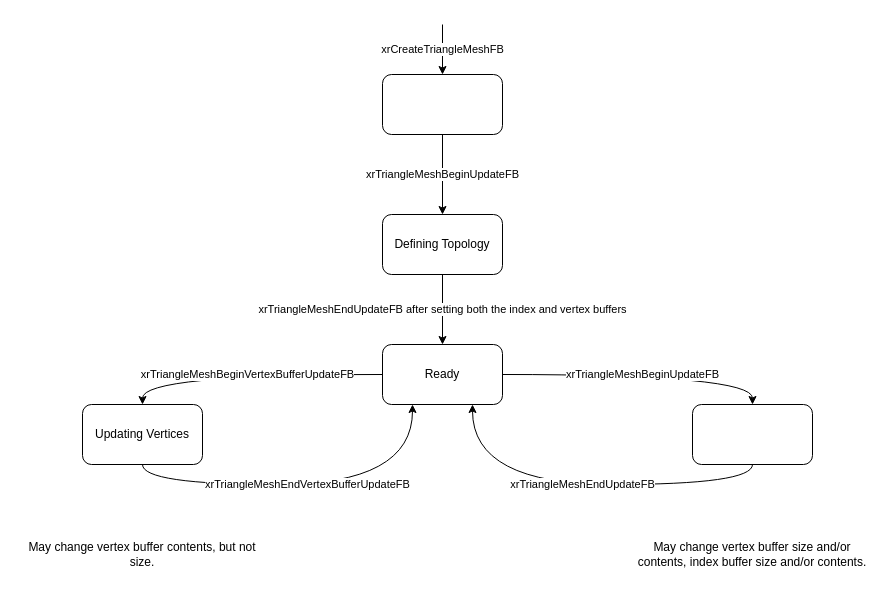
This 894x602 diagram has some shape labels left out. Here are the shapes that lost their labels. From the top down, the centre of each, then its label:
At [442,104]: "Topology Undefined".
At [752,434]: "Updating Mesh".
